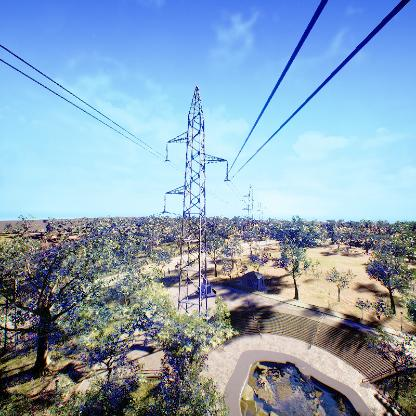tower: (162, 81, 233, 322)
